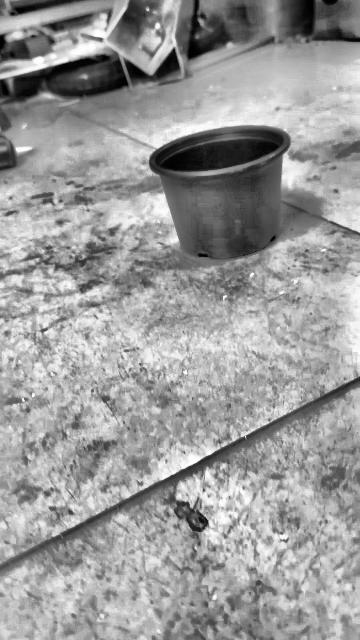pot: (149, 126, 289, 259)
